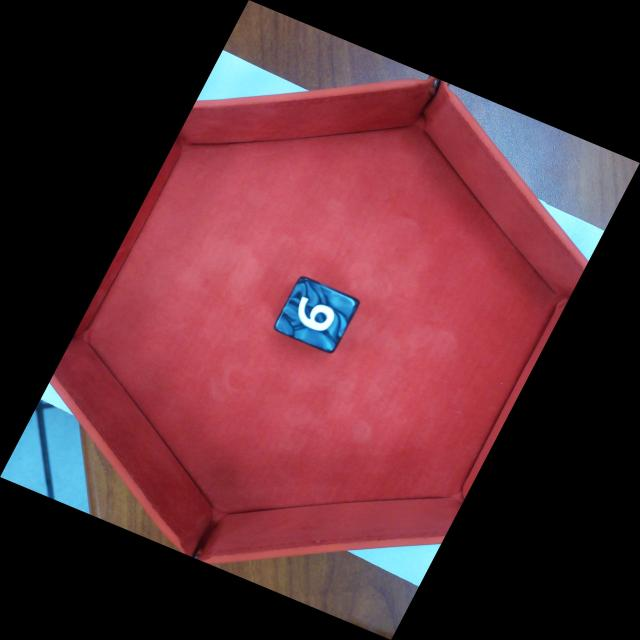dice: (271, 274, 363, 357)
